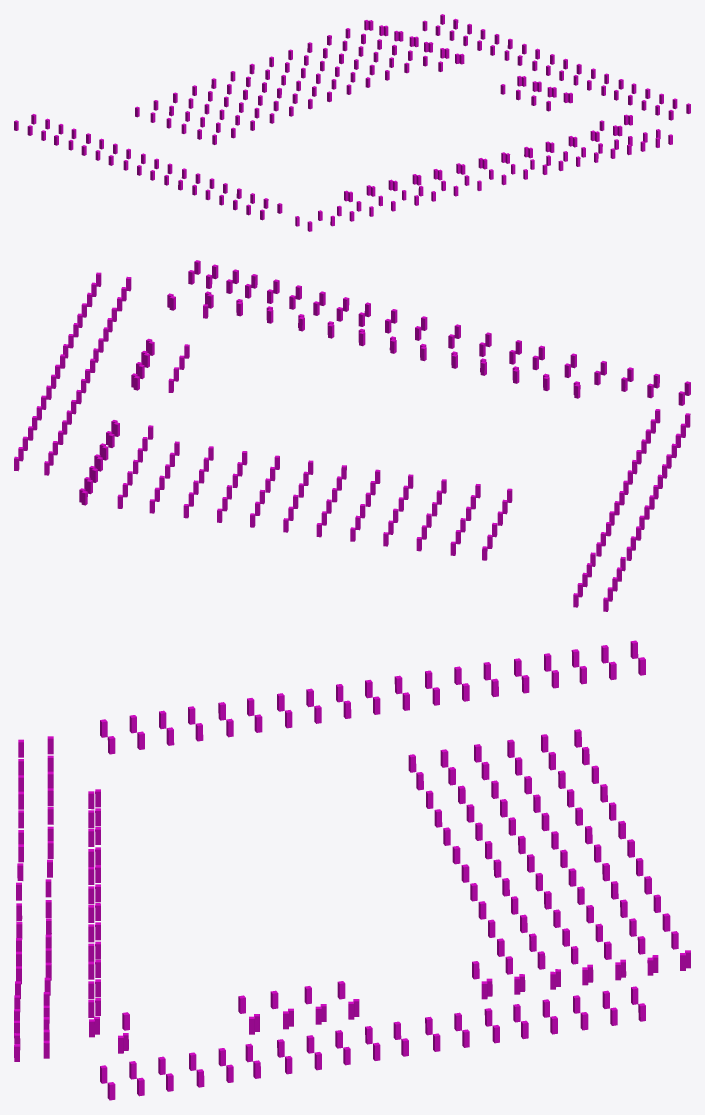
The model's file is New Pillars.fbx.
The picture shows the model from 3 angles, top to bottom: view 1: azimuth 30°, elevation 25°; view 2: azimuth 150°, elevation 25°; view 3: azimuth 270°, elevation 25°; orthographic projection. The views are drawn at different scales.
Size of the model in its own units: 6014 by 97.78 by 3870.
